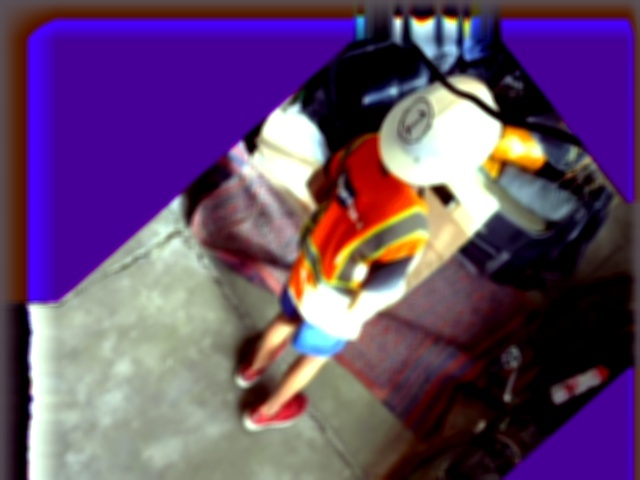one: (390, 93, 443, 147)
